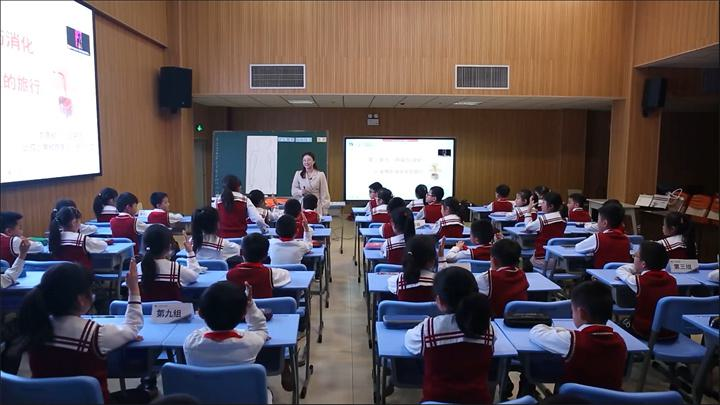hands-up: (47, 251, 141, 367), (192, 277, 274, 377), (394, 234, 464, 294), (145, 225, 201, 299), (483, 232, 529, 307), (272, 217, 321, 279), (244, 183, 278, 221)
listen: (546, 270, 623, 384), (429, 263, 499, 388), (624, 238, 676, 347), (53, 210, 98, 270), (590, 204, 626, 268), (116, 191, 145, 243), (433, 196, 466, 241), (146, 190, 179, 226), (93, 184, 117, 215), (303, 192, 323, 220), (365, 181, 381, 210), (413, 181, 424, 204)
stand: (211, 172, 251, 240)
